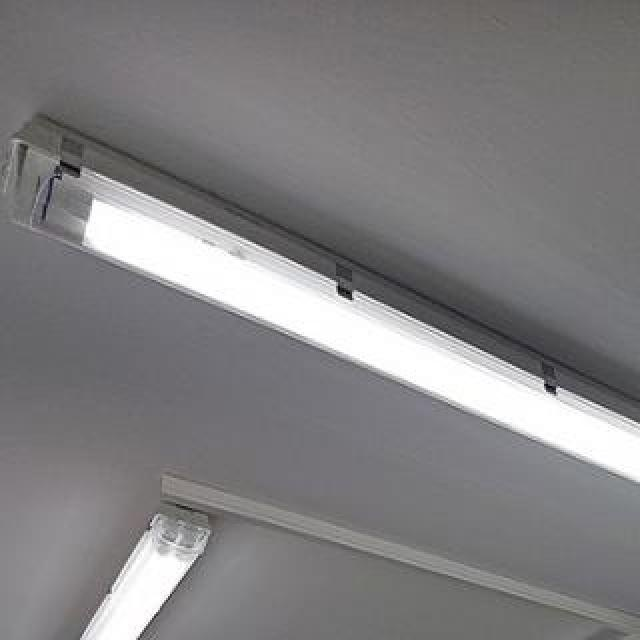fluorescent tube: (0, 126, 640, 564), (0, 500, 234, 640), (378, 634, 640, 640)
